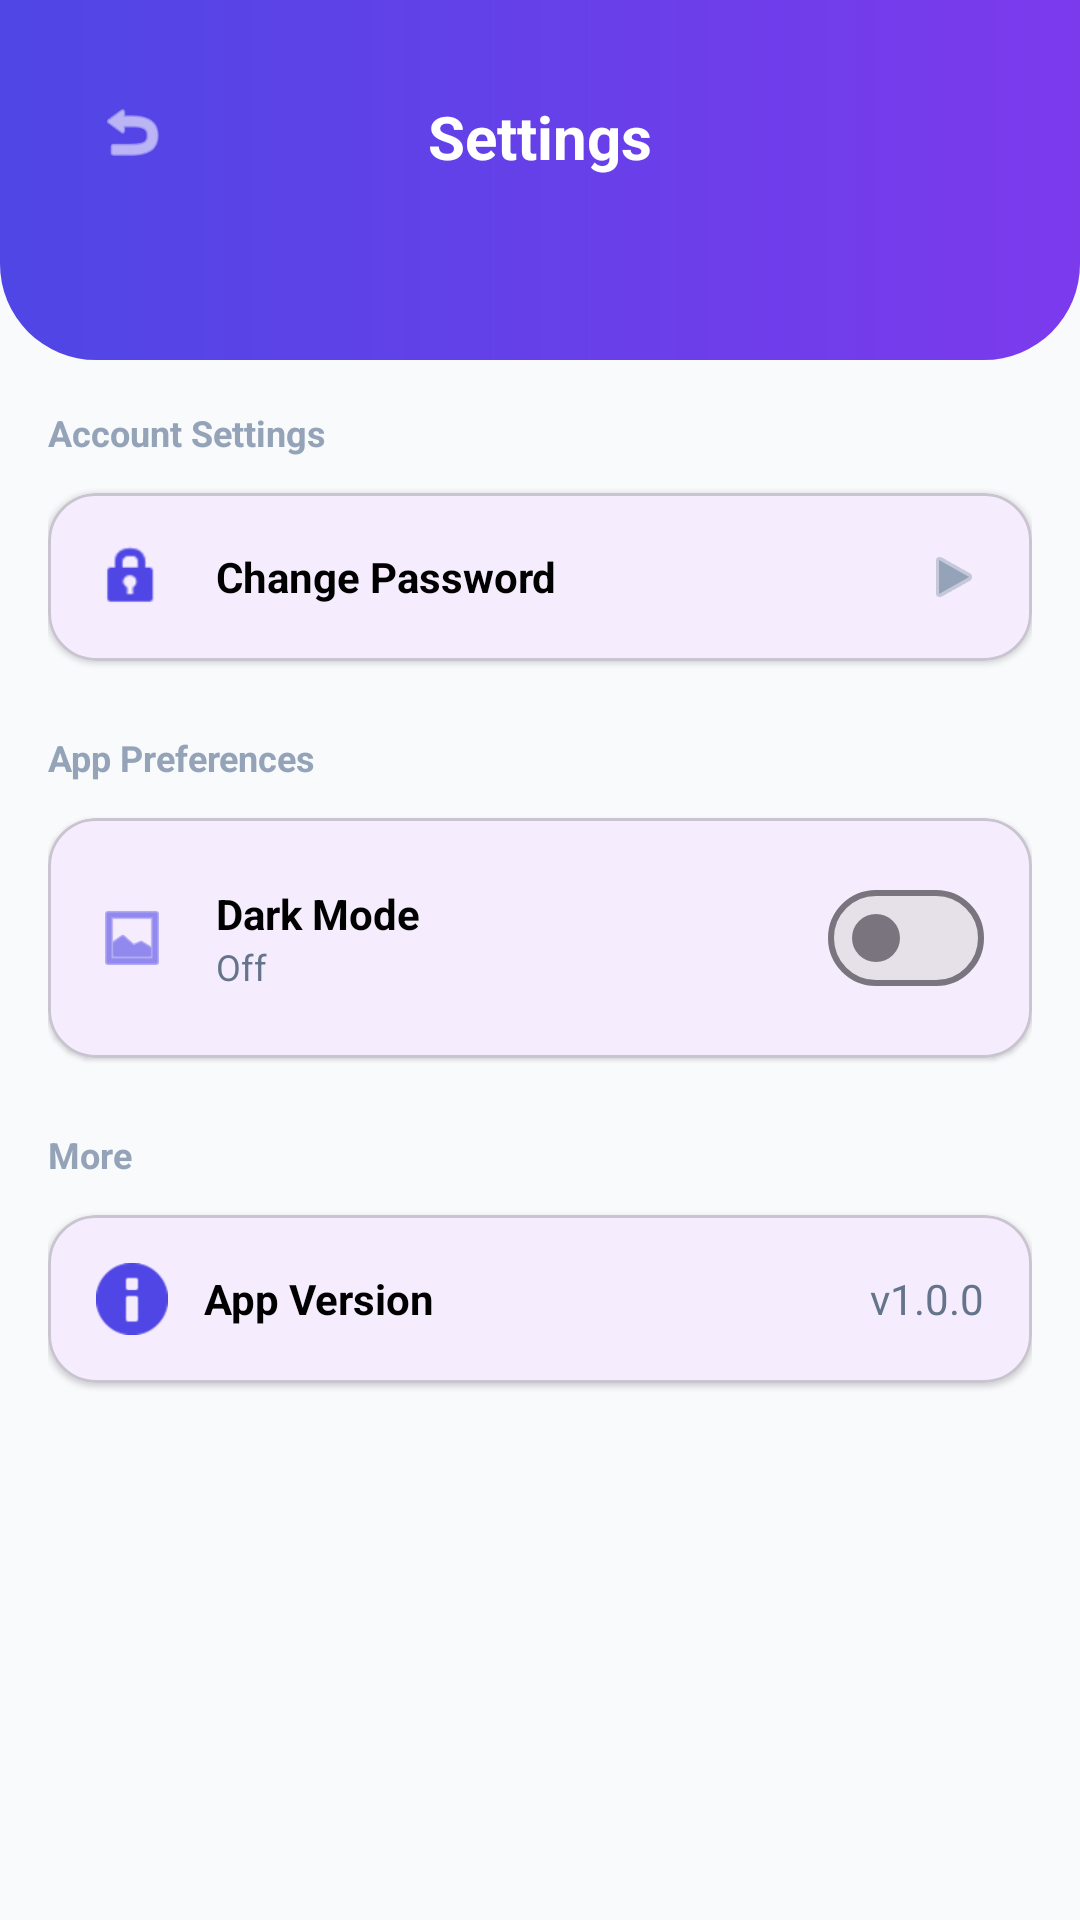

Icons on this 1080w x 1920h Android screen, each with the point to tap as (x,y):
Back: (133,132)
gallery: (132,938)
info: (132,1299)
lock idle: (130,574)
play: (954,577)
